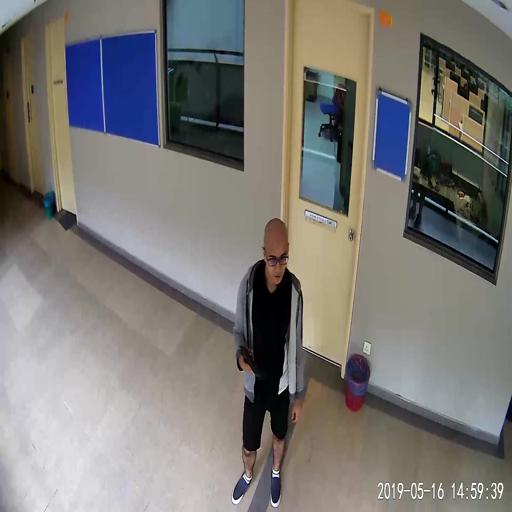pistol: (239, 345, 261, 379)
